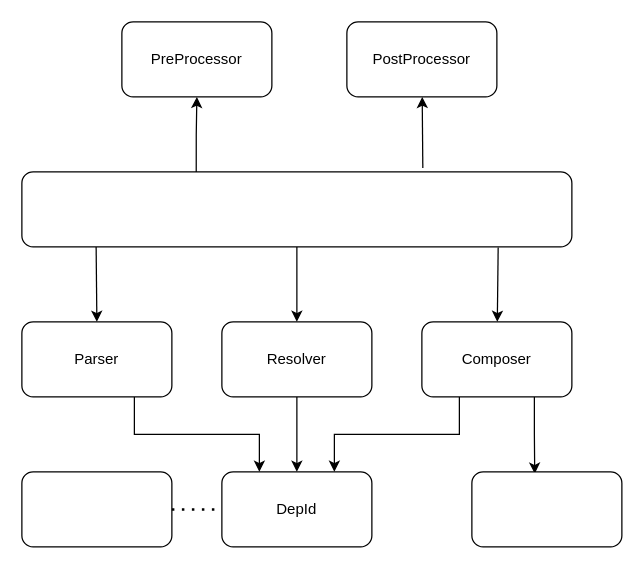
Some shapes in this 644 by 569 pixel diagram are drawn without their labels. The shapes that lost their labels are listed below. From the top down, each one's centre as x and y in pixels, then its label:
point 296,209: Container
point 96,509: 'runtimeDepId'
point 546,509: Spec Analyzer
